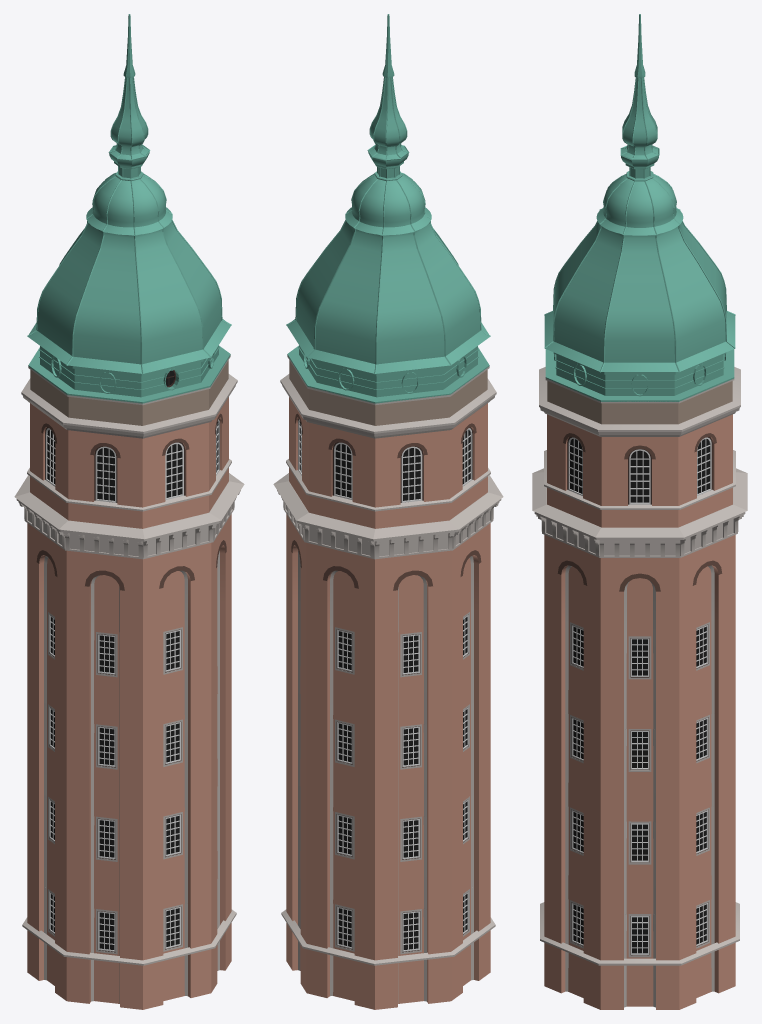
The model's file is tower2_3.fbx.
3 views of the same model, side by side, from view 1: azimuth 30°, elevation 25°; view 2: azimuth 150°, elevation 25°; view 3: azimuth 270°, elevation 25° (orthographic).
Parts seen in each view (by area): view 1: Unity_Export_Mesh.002; view 2: Unity_Export_Mesh.002; view 3: Unity_Export_Mesh.002.
Boxes of the visible parts, bbox=[...] form: Unity_Export_Mesh.002: bbox=[14, 14, 244, 1009]; Unity_Export_Mesh.002: bbox=[273, 14, 503, 1009]; Unity_Export_Mesh.002: bbox=[532, 14, 747, 1009].
Bounding box in the file's own units: 124 × 610 × 124.
